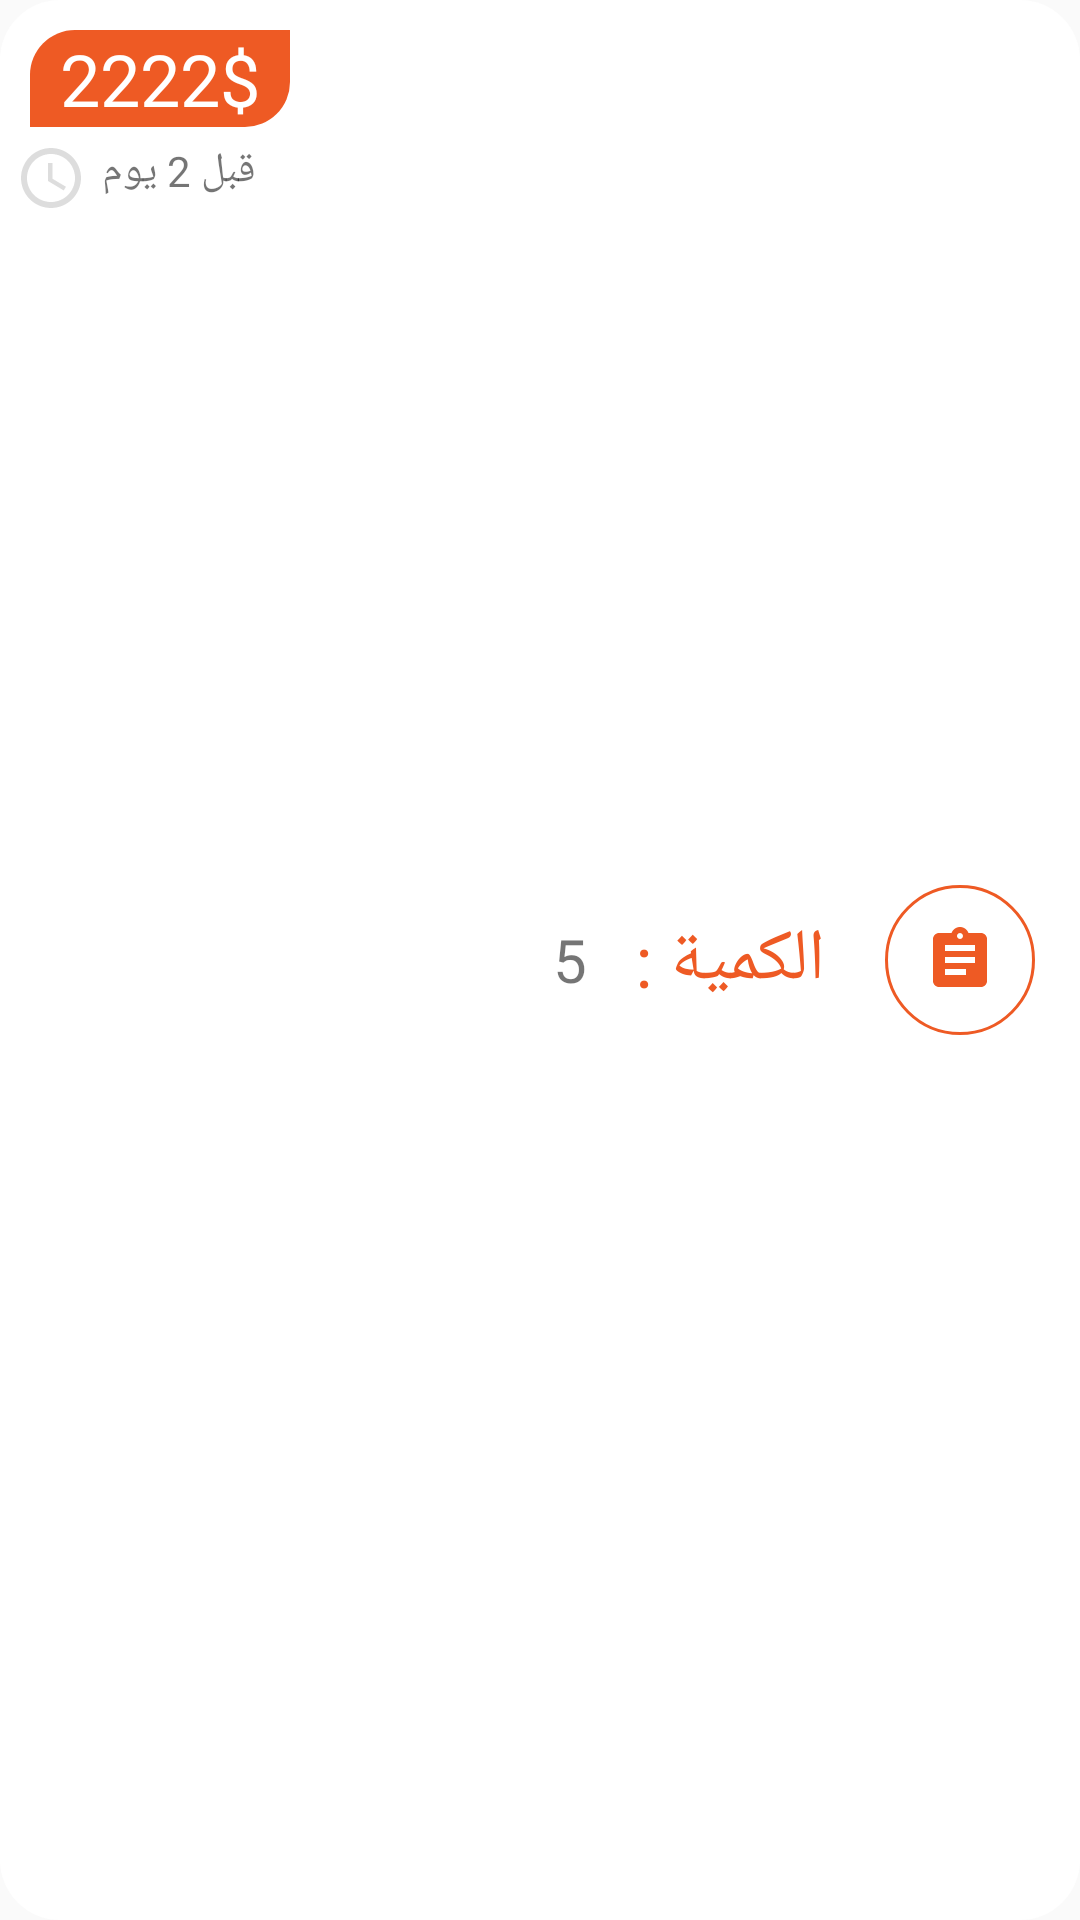

Icon bounding boxes for this 1080 x 1920 phone screenshot, format (x1, y1, x2, y2):
access time: (21, 148, 81, 208)
assignment: (885, 885, 1035, 1035)
